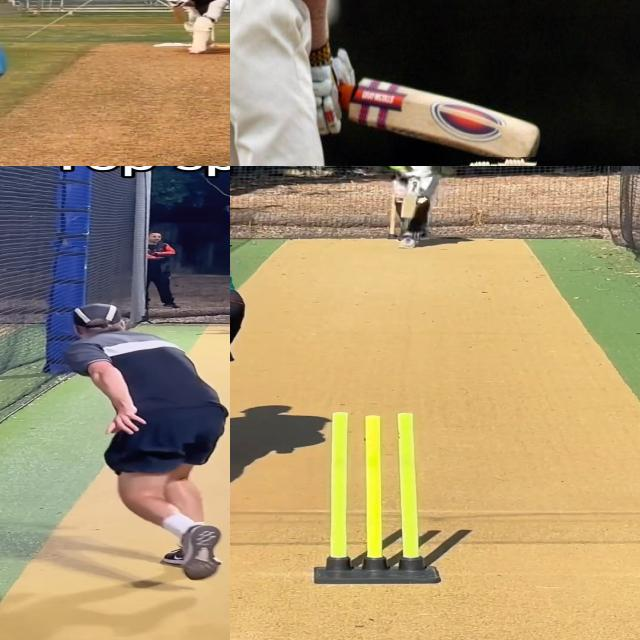Cricket ball: (416, 196, 430, 205)
